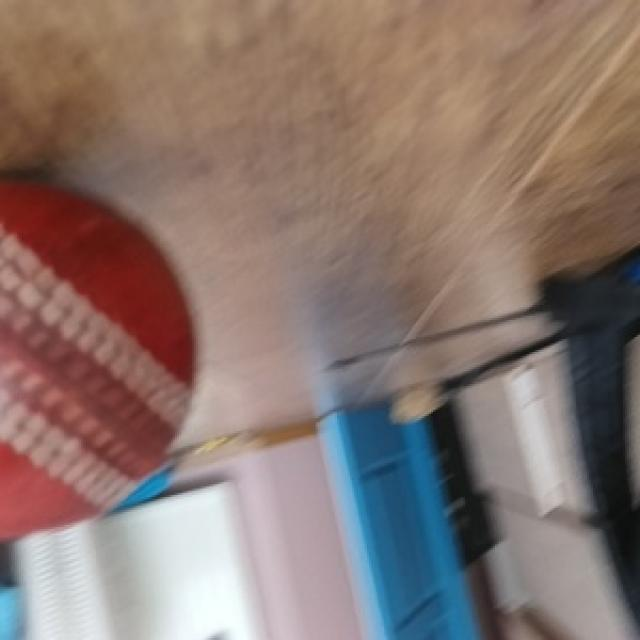ball: (0, 177, 198, 546)
